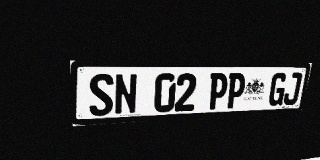0: (154, 73, 176, 113)
2: (175, 73, 197, 112)
G: (267, 73, 288, 106)
J: (282, 73, 303, 105)
N: (114, 73, 138, 115)
P: (207, 73, 229, 110), (225, 73, 247, 109)
S: (89, 74, 113, 117)
